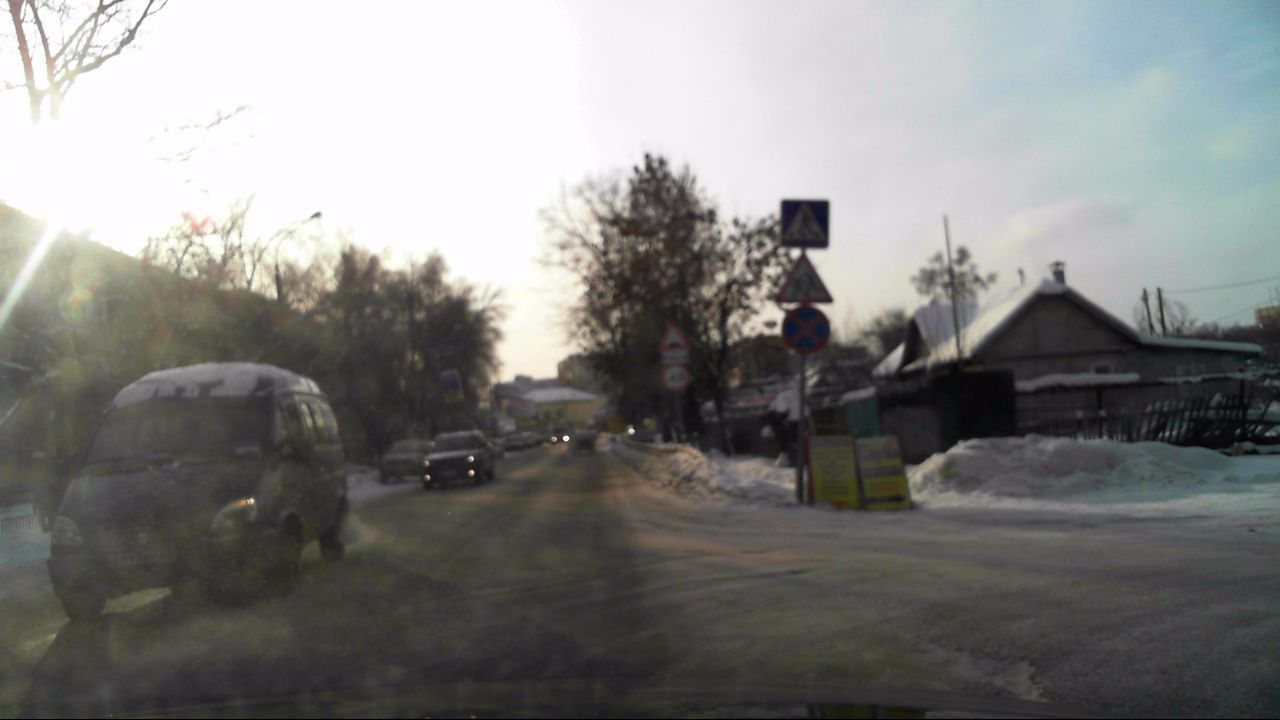No Parking: (782, 307, 829, 352)
